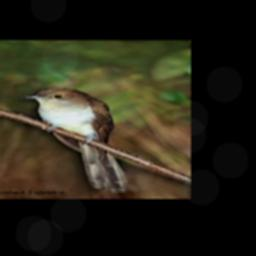Cuckoo: (23, 87, 129, 192)
